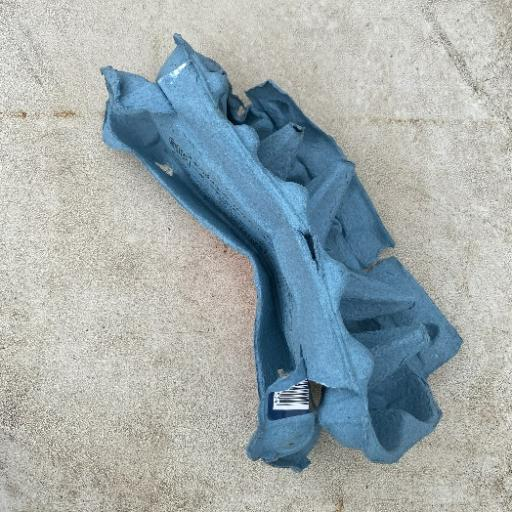Cardboard: (97, 32, 464, 466)
